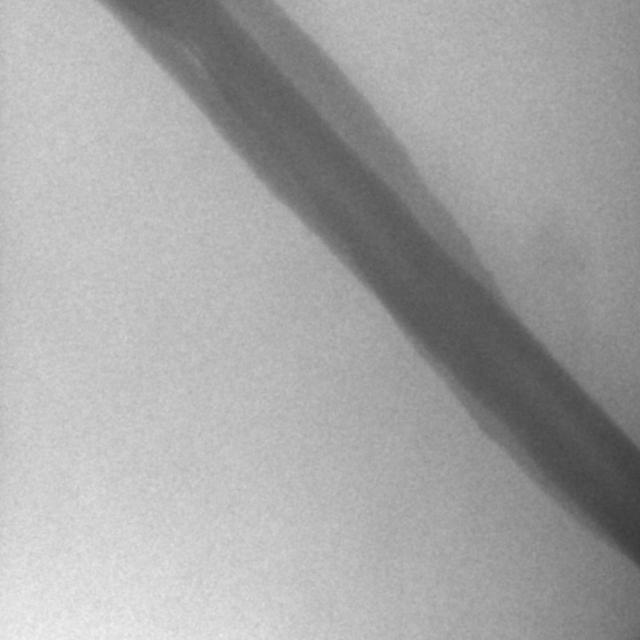unfused: (156, 30, 208, 71)
